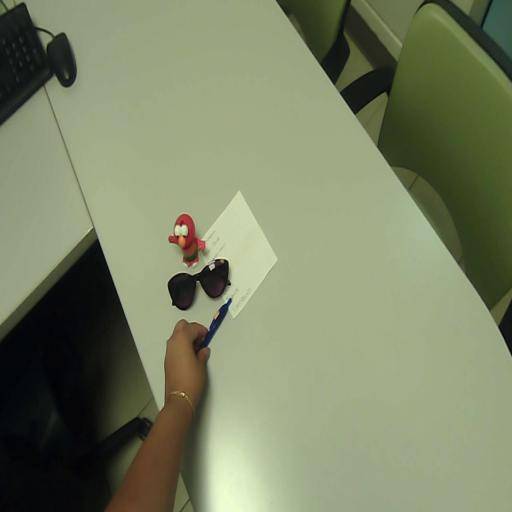pen: (196, 298, 232, 351)
